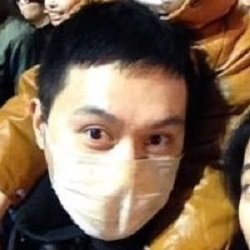mask: (44, 134, 179, 243)
